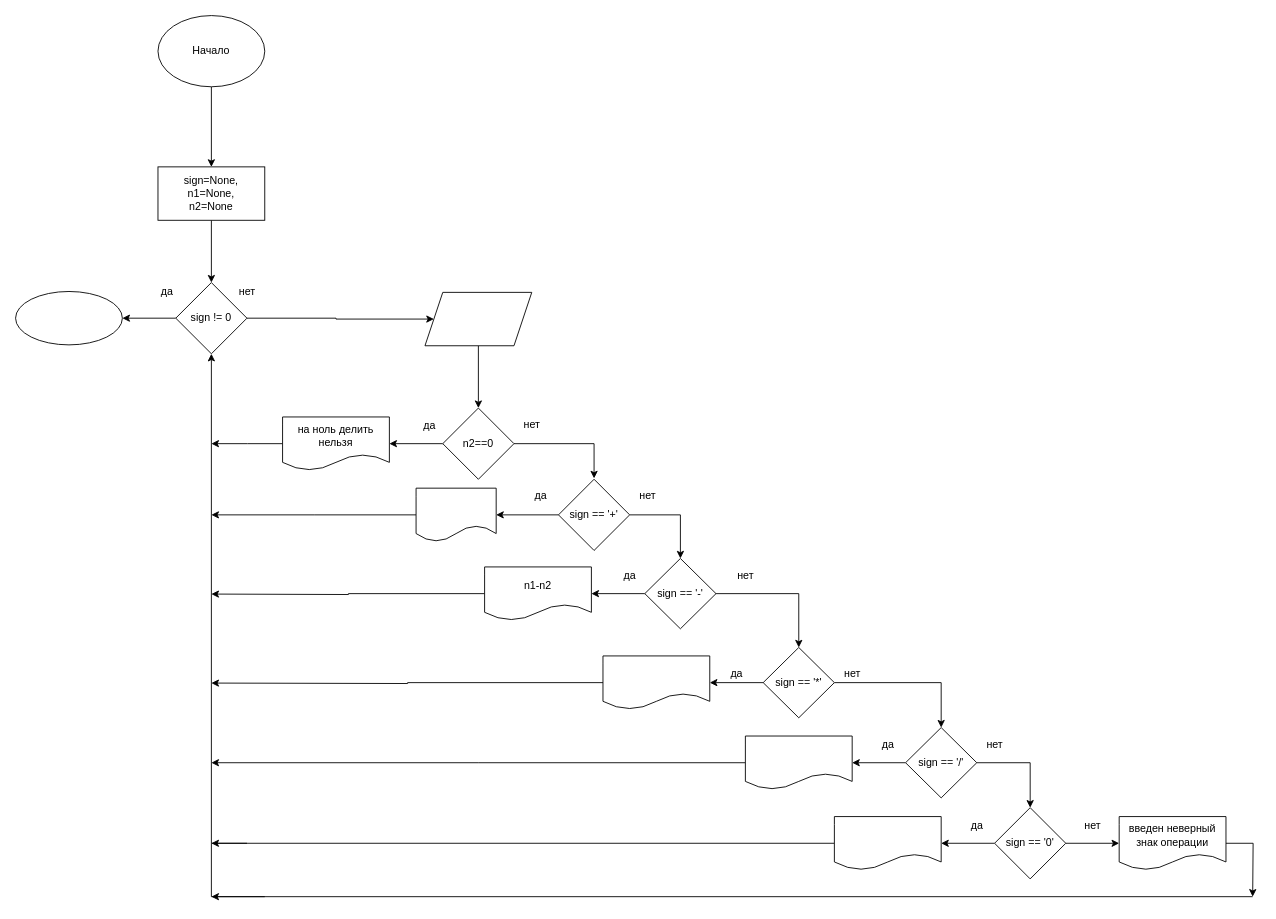
The diagram is 1276 pixels wide and 919 high, and some of its shapes have lost their labels. Each missing label, with the box of its shape:
n1*n2: (602, 655, 710, 709)
n1+n2: (415, 487, 496, 542)
n1/n2: (744, 735, 852, 789)
n1=float(input()) sign=input() n2=float(input()): (424, 291, 532, 346)
вы вышли из калькулятора: (833, 816, 941, 870)
конец: (15, 291, 122, 345)
